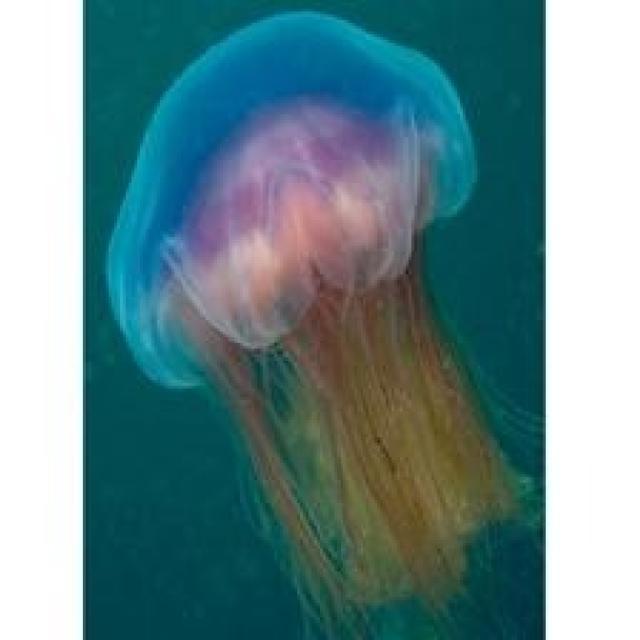Moon-jellyfish: (103, 9, 540, 637)
